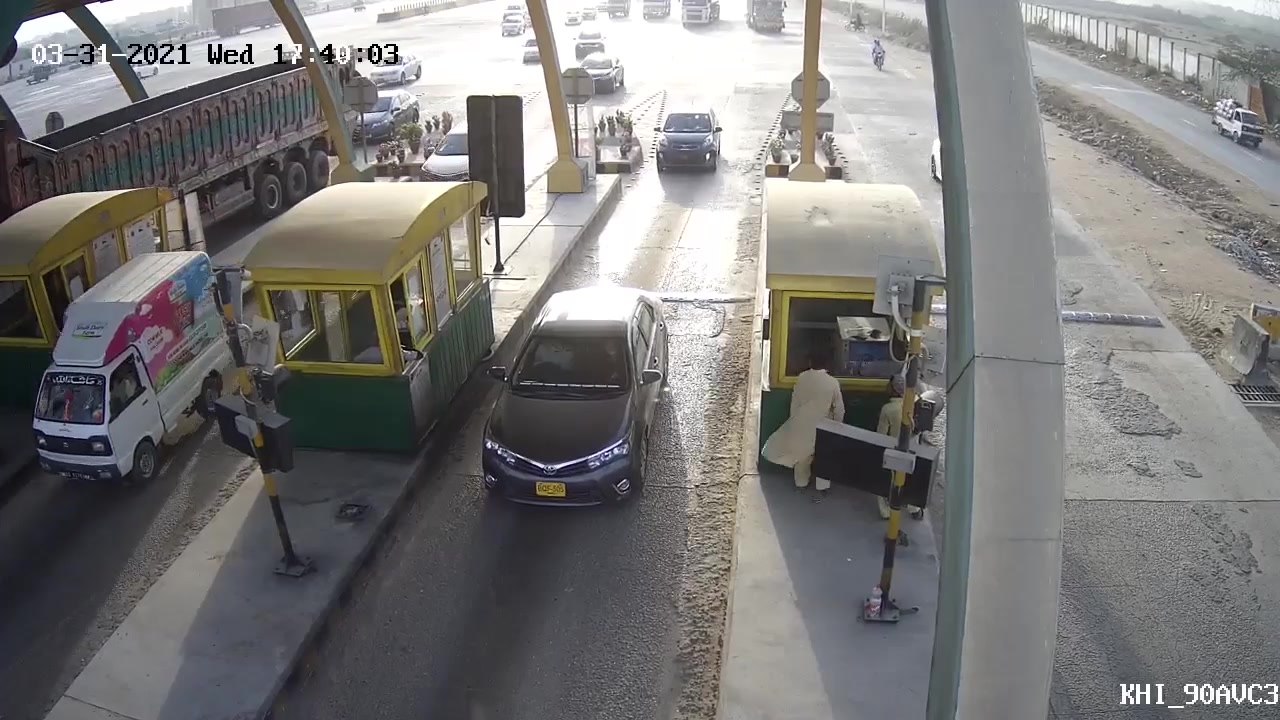F1: (472, 275, 680, 517)
